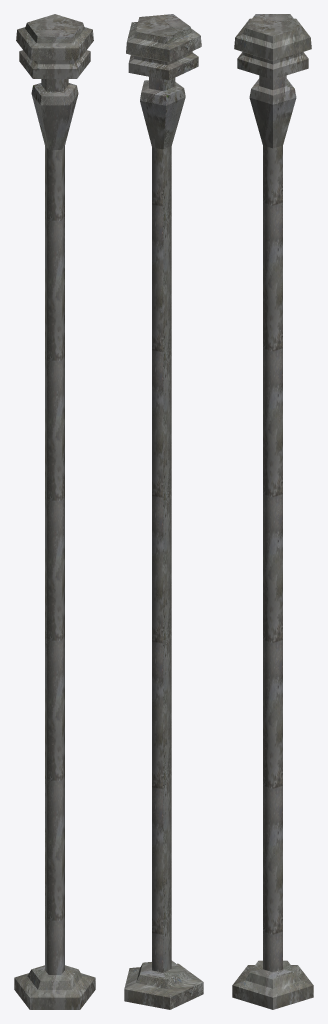
The model's file is guanggaopai_dengzhu01.FBX.
The picture shows the model from 3 angles, left to right: view 1: azimuth 90°, elevation 25°; view 2: azimuth 210°, elevation 25°; view 3: azimuth 270°, elevation 25°; orthographic projection.
Parts seen in each view (by area): view 1: Cylinder005; view 2: Cylinder005; view 3: Cylinder005.
Part boxes in pixels (<box>): Cylinder005: <box>14,14,95,1009</box>; Cylinder005: <box>124,14,203,1009</box>; Cylinder005: <box>232,14,313,1009</box>.
Size of the model in its own units: 11.13 by 154 by 11.7.
